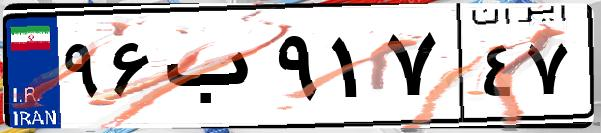1: (330, 28, 385, 110)
4: (475, 38, 525, 113)
6: (110, 28, 158, 98)
7: (385, 28, 445, 110), (525, 38, 570, 115)
9: (270, 28, 330, 110), (57, 26, 110, 100)
ب: (158, 20, 270, 120)
